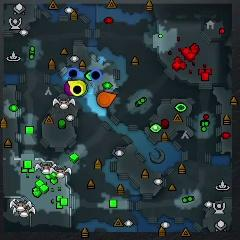p1Clone: (90, 69, 102, 81), (68, 68, 78, 79)
p3: (64, 80, 72, 96)
p4: (67, 80, 88, 96)
p4Clone: (72, 84, 82, 96)
p5: (97, 92, 116, 107)
